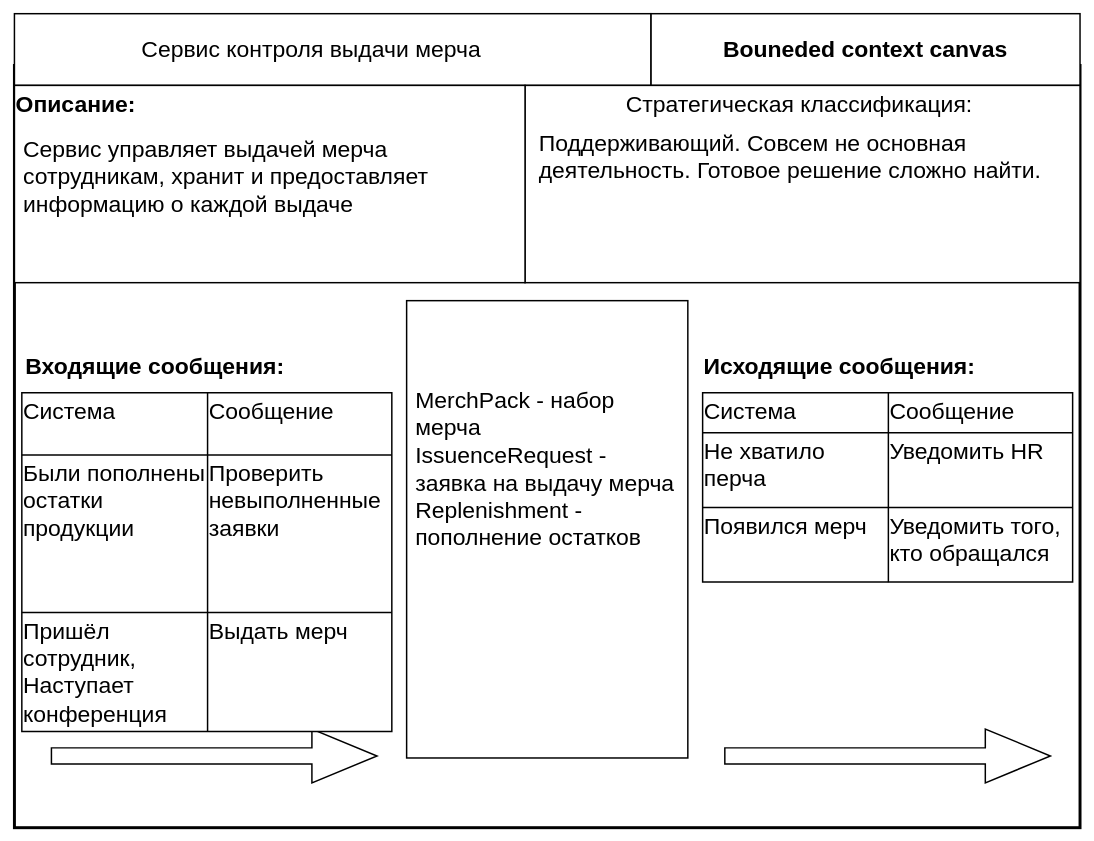
Some shapes in this 1094 by 841 pixel diagram are drawn without their labels. Each missing label, with the box of its shape:
Ubiquitous Language специфическая доменная терминология: (406, 300, 688, 758)
Название:: (13, 13, 651, 86)
